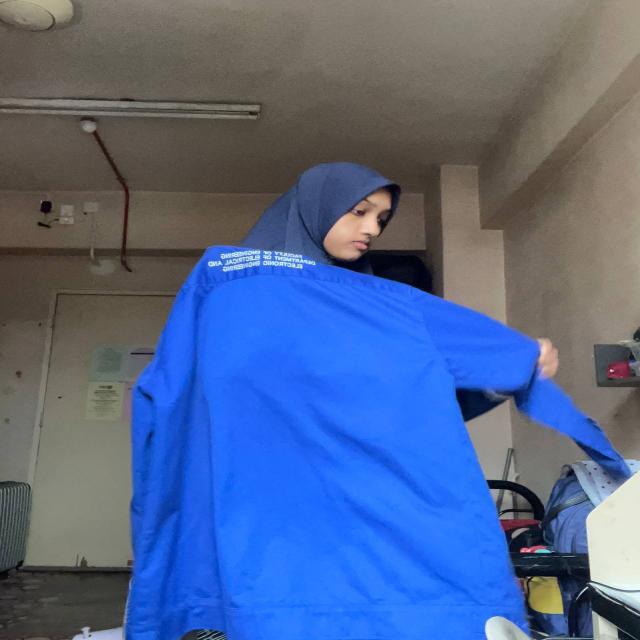person_without_labcoat: (124, 162, 631, 640)
